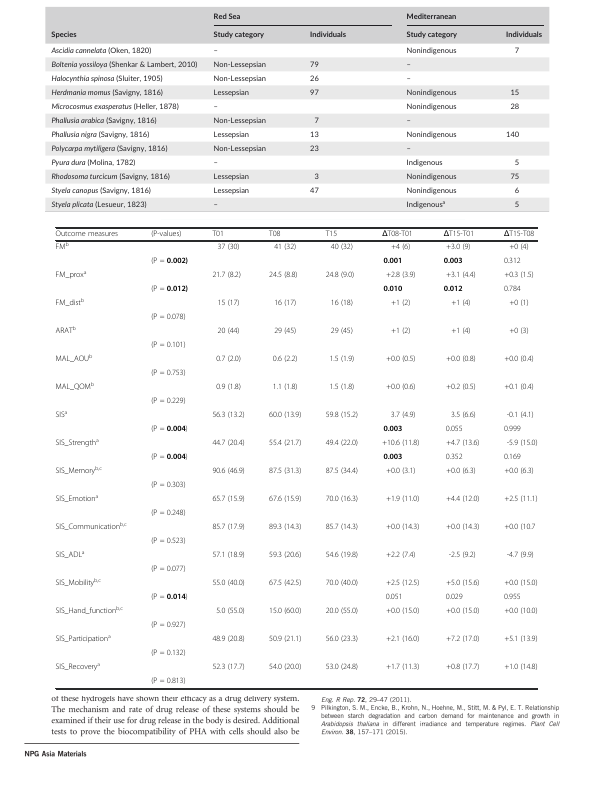borderless: (54, 225, 537, 688), (43, 6, 550, 213)
cell: (50, 59, 197, 71), (50, 101, 179, 113), (50, 171, 170, 183), (50, 143, 168, 155), (50, 73, 163, 85), (50, 87, 163, 99), (50, 115, 157, 127), (50, 45, 151, 57), (50, 185, 151, 197), (50, 129, 149, 141), (50, 199, 147, 211), (50, 157, 135, 169), (55, 521, 128, 532), (55, 605, 124, 616), (405, 10, 456, 23), (212, 59, 266, 71), (212, 73, 266, 85), (212, 115, 266, 127), (212, 143, 266, 155), (55, 633, 112, 644), (212, 29, 264, 41), (405, 29, 457, 41), (405, 45, 457, 57), (405, 87, 457, 99), (405, 101, 457, 113), (405, 129, 457, 141), (405, 171, 457, 183), (405, 185, 457, 197), (55, 230, 119, 239), (55, 465, 103, 476), (405, 198, 445, 211), (55, 577, 102, 588), (55, 661, 101, 672), (55, 437, 100, 448), (55, 493, 99, 504), (405, 157, 443, 169), (212, 87, 249, 99), (212, 129, 249, 141), (212, 171, 249, 183), (212, 185, 249, 197), (55, 381, 95, 392), (55, 353, 93, 364), (212, 10, 241, 23), (55, 269, 87, 280), (150, 257, 189, 266), (150, 285, 189, 294), (150, 425, 189, 434), (381, 439, 420, 448), (150, 453, 189, 462), (150, 593, 189, 602), (55, 297, 85, 308), (55, 549, 85, 560), (50, 29, 77, 41), (150, 313, 186, 322), (150, 341, 186, 350), (150, 369, 186, 378), (150, 397, 186, 406), (150, 481, 186, 490), (150, 509, 186, 518), (150, 537, 186, 546), (150, 565, 186, 574), (150, 621, 186, 630), (150, 649, 186, 658), (150, 677, 186, 686), (211, 411, 246, 420), (211, 439, 246, 448), (445, 439, 480, 448), (211, 467, 246, 476), (211, 495, 246, 504), (385, 495, 420, 504), (445, 495, 480, 504), (503, 495, 538, 504), (211, 523, 246, 532), (385, 523, 420, 532), (445, 523, 480, 532), (211, 551, 246, 560), (211, 579, 246, 588), (385, 579, 420, 588), (445, 579, 480, 588), (503, 579, 538, 588), (385, 607, 420, 616), (445, 607, 480, 616), (503, 607, 538, 616), (211, 635, 246, 644), (385, 635, 420, 644), (445, 635, 480, 644), (503, 635, 538, 644), (211, 663, 246, 672), (385, 663, 420, 672), (445, 663, 480, 672), (503, 663, 538, 672), (268, 411, 302, 420), (325, 411, 359, 420), (268, 439, 302, 448), (325, 439, 359, 448), (268, 467, 302, 476), (325, 467, 359, 476), (268, 495, 302, 504), (325, 495, 359, 504), (268, 523, 302, 532), (325, 523, 359, 532), (268, 551, 302, 560), (325, 551, 359, 560), (268, 579, 302, 588), (325, 579, 359, 588), (268, 607, 302, 616), (325, 607, 359, 616), (268, 635, 302, 644), (325, 635, 359, 644), (268, 663, 302, 672), (325, 663, 359, 672), (308, 31, 346, 39), (504, 31, 542, 39), (381, 230, 414, 239), (503, 523, 536, 532), (150, 230, 182, 239), (443, 230, 475, 239), (503, 230, 535, 239), (445, 271, 477, 280), (503, 271, 535, 280), (445, 355, 477, 364), (503, 355, 535, 364), (445, 383, 477, 392), (503, 383, 535, 392), (506, 439, 538, 448), (445, 467, 477, 476), (503, 467, 535, 476), (211, 271, 242, 280), (385, 271, 416, 280), (385, 355, 416, 364), (385, 383, 416, 392), (385, 467, 416, 476), (385, 551, 416, 560), (215, 607, 246, 616), (268, 271, 298, 280), (325, 271, 355, 280), (506, 411, 535, 420), (448, 551, 477, 560), (506, 551, 535, 560), (215, 355, 242, 364), (328, 355, 355, 364), (215, 383, 242, 392), (328, 383, 355, 392), (450, 411, 477, 420), (55, 325, 77, 336), (445, 243, 471, 252), (272, 355, 298, 364), (272, 383, 298, 392), (390, 411, 416, 420), (273, 243, 297, 252), (330, 243, 354, 252), (273, 299, 297, 308), (330, 299, 354, 308), (273, 327, 297, 336), (330, 327, 354, 336), (217, 243, 240, 252), (217, 299, 240, 308), (217, 327, 240, 336), (390, 243, 411, 252), (508, 243, 529, 252), (390, 299, 411, 308), (450, 299, 471, 308), (508, 299, 529, 308), (390, 327, 411, 336), (450, 327, 471, 336), (508, 327, 529, 336), (382, 257, 403, 265), (382, 285, 403, 293), (382, 425, 403, 433), (382, 453, 403, 461), (55, 241, 70, 252), (503, 257, 521, 266), (503, 285, 521, 294), (445, 425, 463, 434), (503, 425, 521, 434), (445, 453, 463, 462), (503, 453, 521, 462), (385, 593, 403, 602), (445, 593, 463, 602), (503, 593, 521, 602), (443, 257, 463, 265), (443, 285, 463, 293), (55, 409, 68, 420), (308, 59, 319, 71), (308, 73, 319, 85), (308, 87, 319, 99), (211, 230, 225, 239), (268, 230, 281, 239), (325, 230, 338, 239), (504, 132, 519, 139), (308, 132, 319, 139), (308, 146, 319, 153), (308, 188, 319, 195), (513, 185, 519, 197), (509, 90, 519, 97), (509, 104, 519, 111), (509, 174, 519, 181), (212, 48, 218, 55), (513, 48, 519, 55), (405, 62, 411, 69), (405, 76, 411, 83), (212, 104, 218, 111), (313, 118, 319, 125), (405, 118, 411, 125), (405, 146, 411, 153), (212, 160, 218, 167), (513, 160, 519, 167), (313, 174, 319, 181), (212, 202, 218, 209), (513, 202, 519, 209)
